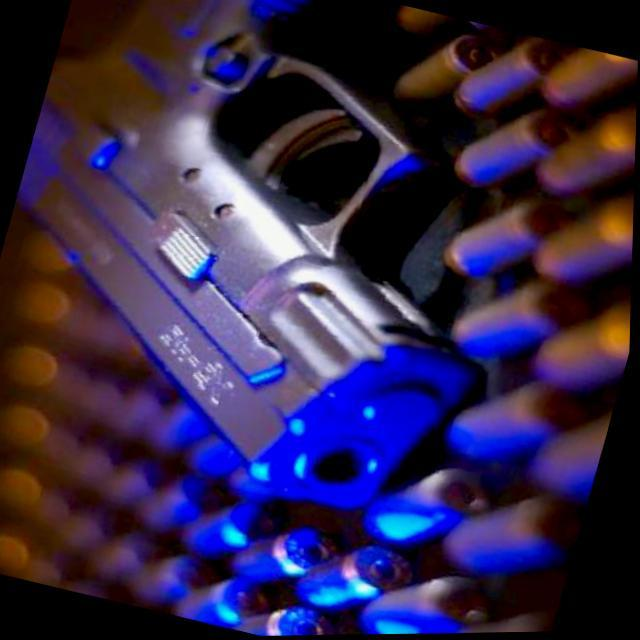gun: (0, 0, 557, 530)
